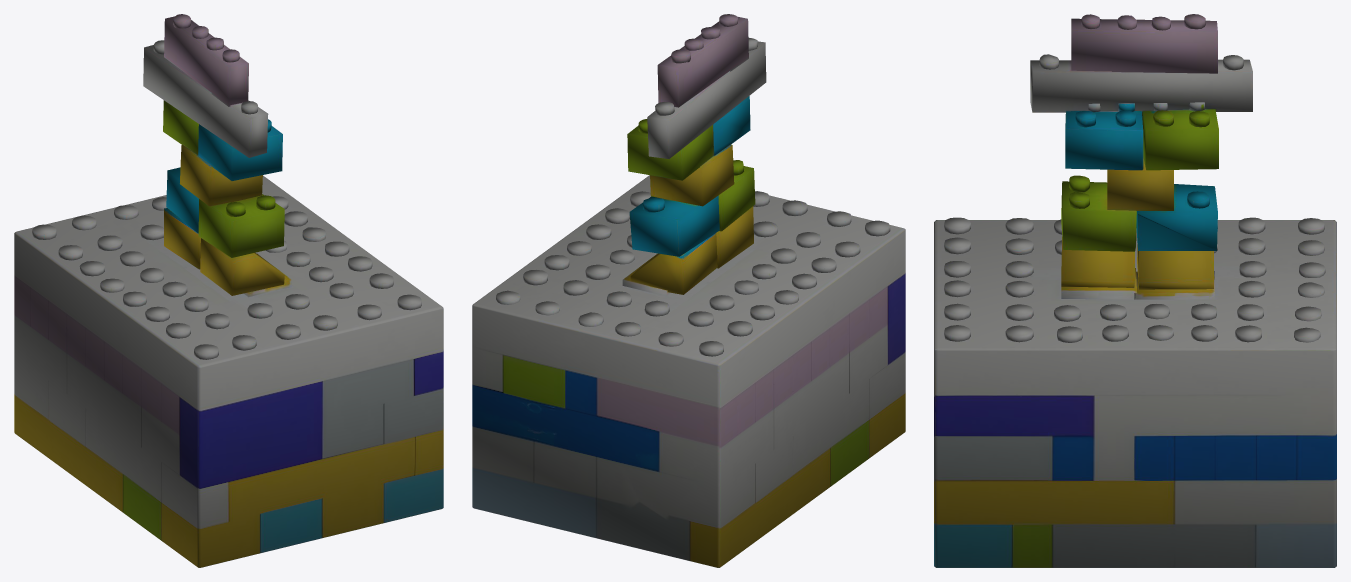
Rendered from object_19_asset_5a81c011.glb.
3 views of the same model, side by side, from view 1: azimuth 30°, elevation 25°; view 2: azimuth 150°, elevation 25°; view 3: azimuth 270°, elevation 25° (orthographic). The views are drawn at different scales.
Parts seen in each view (by area): view 1: tripo_node_ebadde11-4a35-4d26-8228-bdafc8178940; view 2: tripo_node_ebadde11-4a35-4d26-8228-bdafc8178940; view 3: tripo_node_ebadde11-4a35-4d26-8228-bdafc8178940.
Part boxes in pixels (x1,y1,x2,y2): tripo_node_ebadde11-4a35-4d26-8228-bdafc8178940: (14,14,443,567); tripo_node_ebadde11-4a35-4d26-8228-bdafc8178940: (472,14,905,567); tripo_node_ebadde11-4a35-4d26-8228-bdafc8178940: (934,14,1336,567).
Size of the model in its own units: 0.5879 by 0.998 by 0.7676.
1 material, 1 textured.
